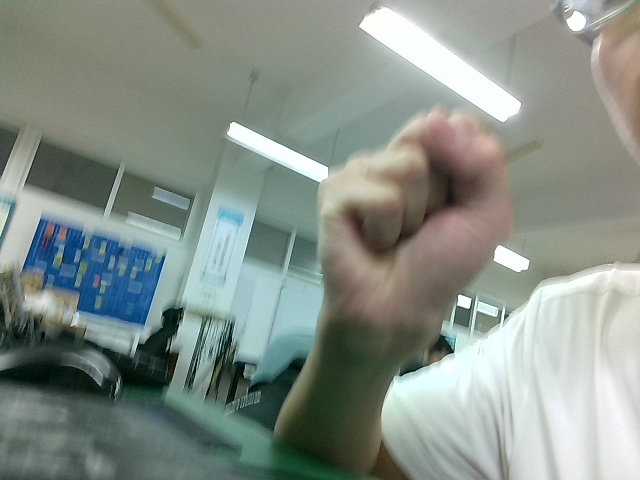stone: (304, 105, 522, 336)
